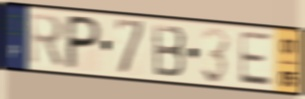3: (200, 25, 234, 86)
7: (114, 17, 146, 77)
B: (152, 22, 188, 80)
E: (237, 29, 274, 88)
P: (63, 13, 104, 72)
R: (29, 10, 67, 71)
